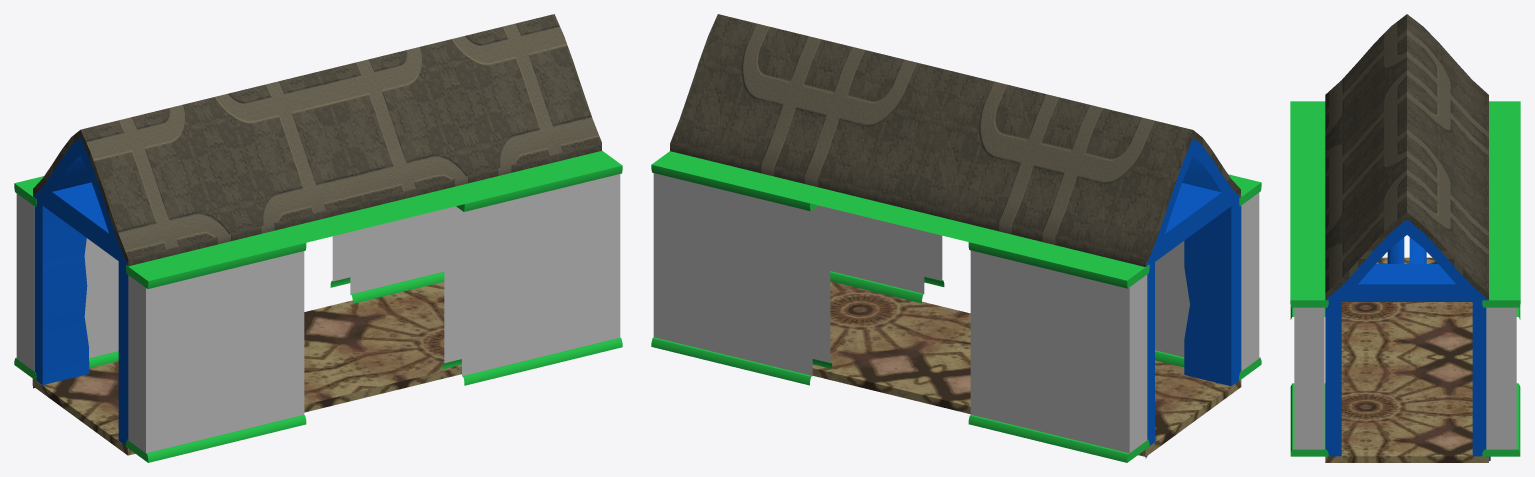
The model's file is Basic Hallway 02C.fbx.
3 renders of one model, left to right at view 1: azimuth 30°, elevation 25°; view 2: azimuth 150°, elevation 25°; view 3: azimuth 270°, elevation 25°, orthographic. The views are drawn at different scales.
Visible parts, largest first — view 1: Plane_001; view 2: Plane_001; view 3: Plane_001.
Boxes of the visible parts, <box> form: Plane_001: <box>14,14,622,462</box>; Plane_001: <box>651,14,1261,462</box>; Plane_001: <box>1290,14,1520,462</box>.
Size of the model in its own units: 1258 by 744 by 615.
